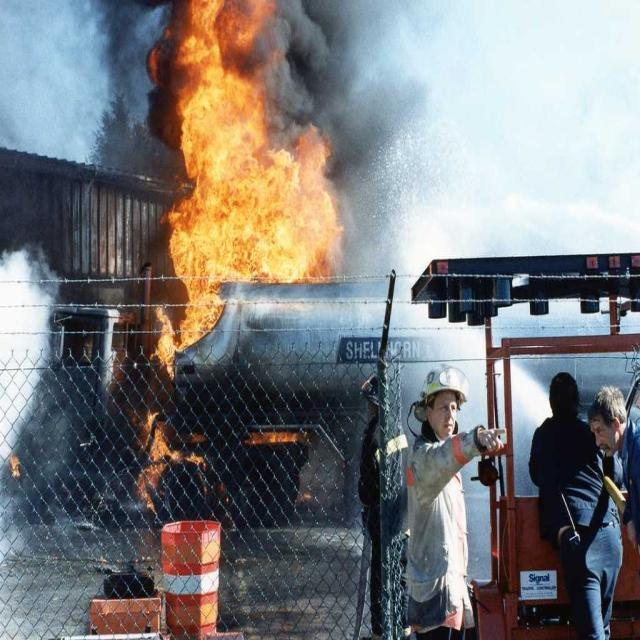Fire: (154, 14, 318, 280)
